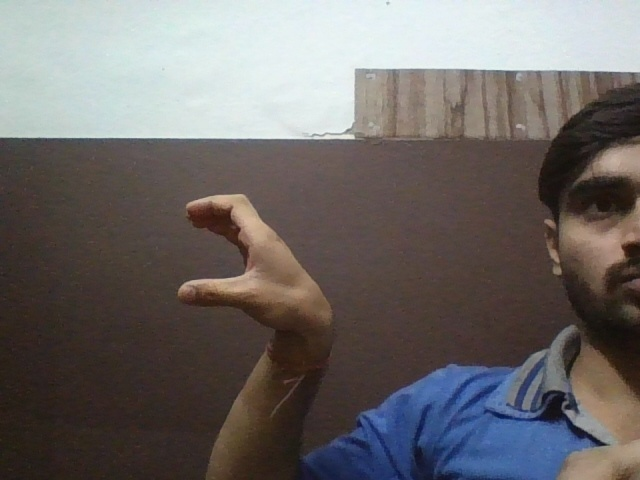C: (165, 189, 335, 340)
